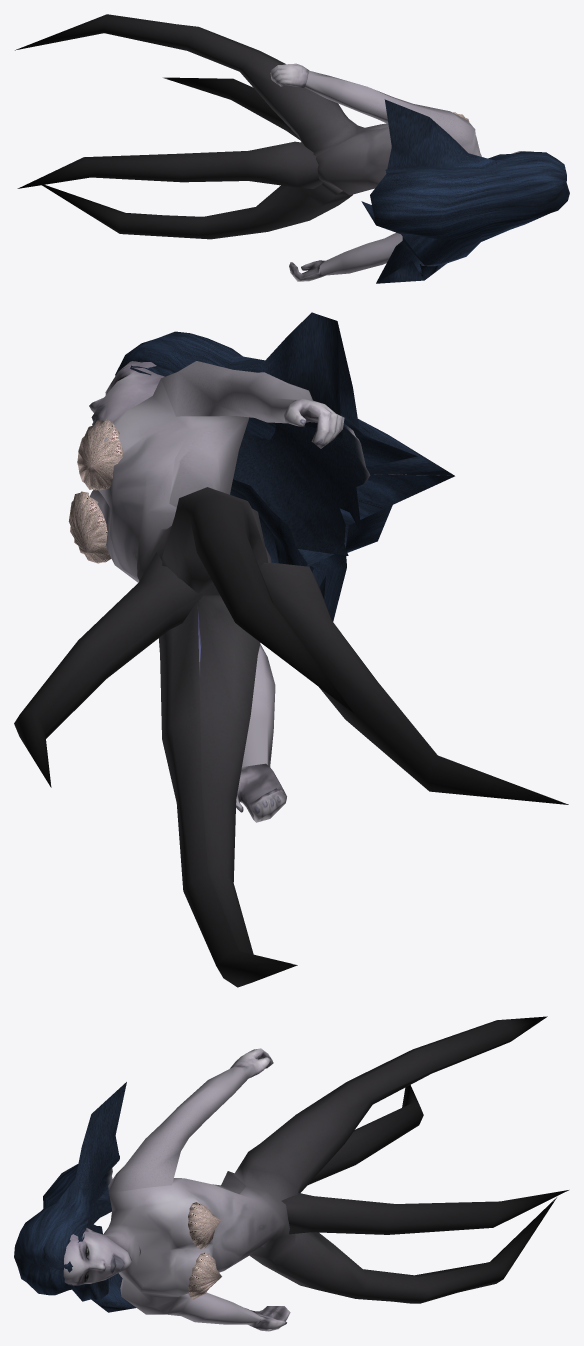
The model's file is simhika_000457.obj.
3 renders of one model, top to bottom at view 1: azimuth 30°, elevation 25°; view 2: azimuth 150°, elevation 25°; view 3: azimuth 270°, elevation 25°, orthographic. The views are drawn at different scales.
Parts seen in each view (by area): view 1: simhika_omino; view 2: simhika_omino, oysterL_Sphere.002, oysterR_Sphere; view 3: simhika_omino, oysterL_Sphere.002, oysterR_Sphere.
Part boxes in pixels (box(x1,y1,x2,y2)): simhika_omino: box(15, 14, 569, 283); simhika_omino: box(14, 312, 568, 987); oysterL_Sphere.002: box(77, 419, 123, 490); oysterR_Sphere: box(68, 491, 111, 563); simhika_omino: box(14, 1016, 568, 1331); oysterL_Sphere.002: box(188, 1202, 220, 1249); oysterR_Sphere: box(188, 1252, 221, 1299).
Bounding box in the file's own units: 12.79 × 7.03 × 13.28.
